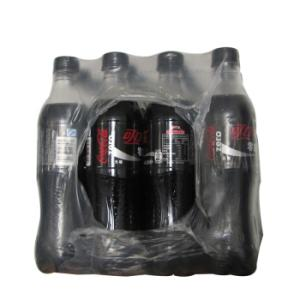coke_zero: (204, 49, 262, 282), (147, 51, 202, 281), (93, 52, 145, 280), (34, 53, 85, 280)
